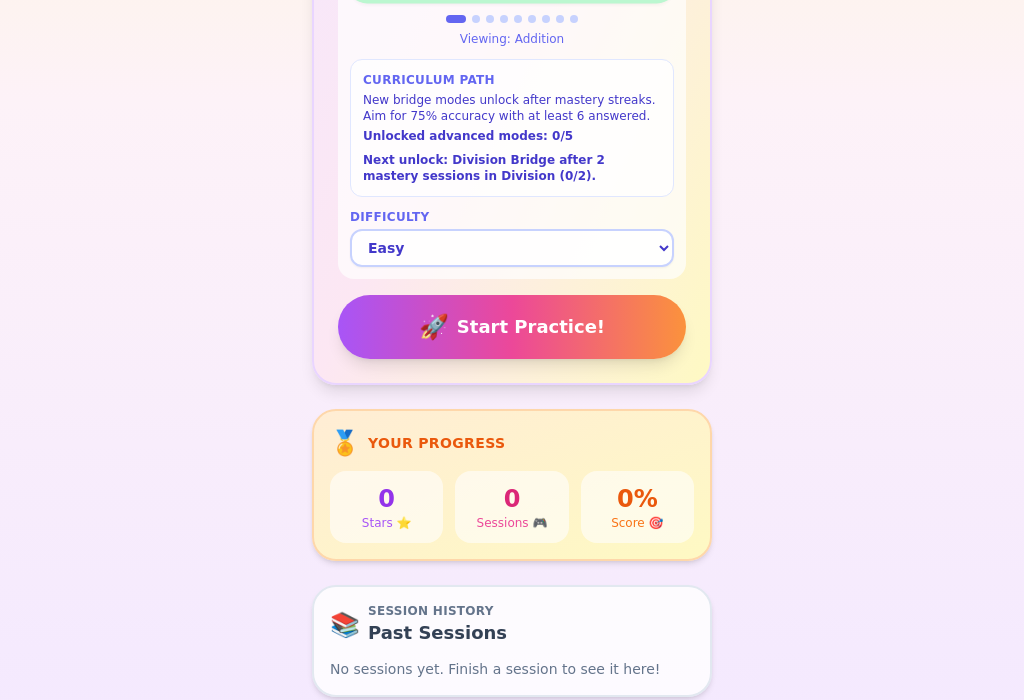
Scenario: start practice shows equations and moves focus to first question
This screenshot has width=1024, height=700.
(page scrolled)
// Click start practice
Click the button "🚀 Start Practice!": x=512, y=327 [338,295,686,359]
(page scrolled)
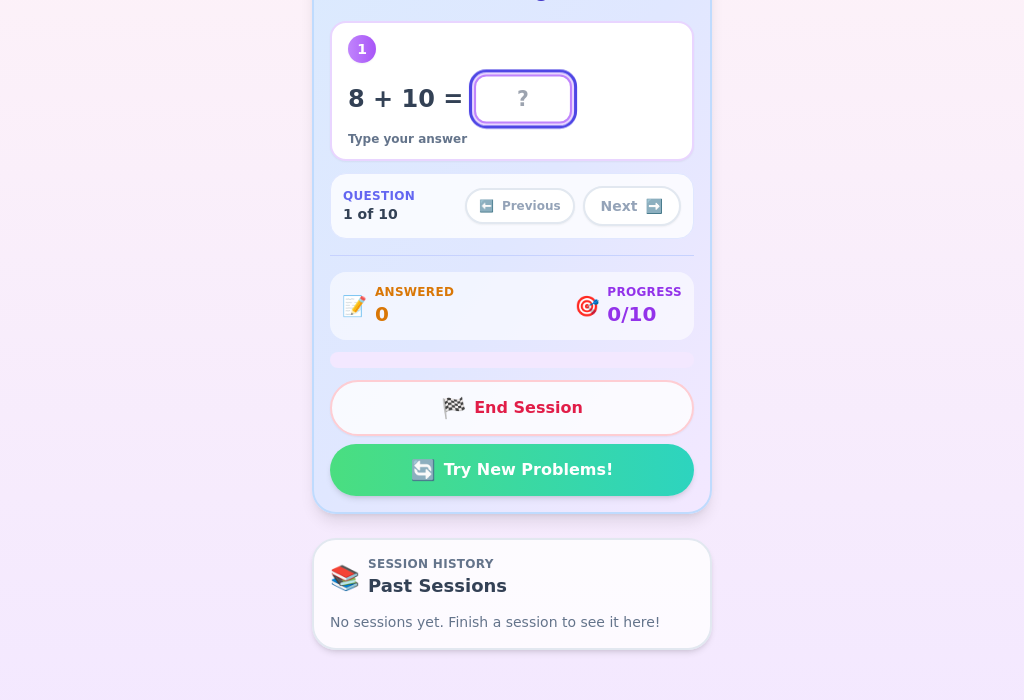
Check: the number of fields is 1, box [474,74,572,124]
